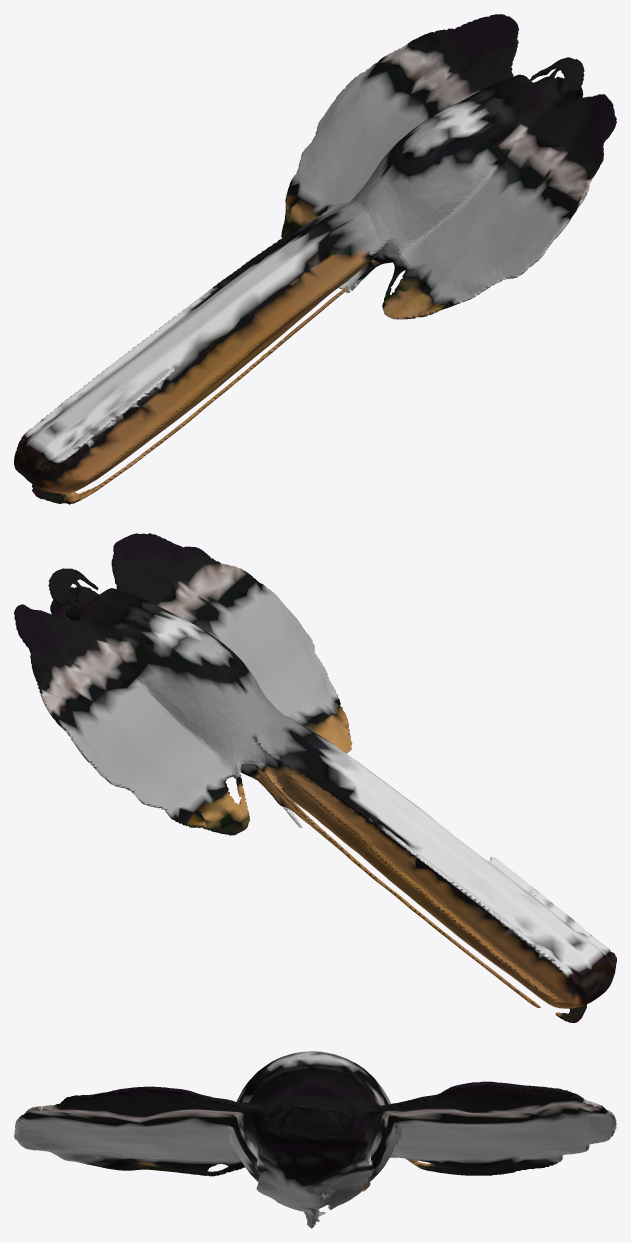
File: axe_1.glb
3 renders of one model, top to bottom at view 1: azimuth 30°, elevation 25°; view 2: azimuth 150°, elevation 25°; view 3: azimuth 270°, elevation 25°, orthographic. The views are drawn at different scales.
Parts seen in each view (by area): view 1: geometry_0; view 2: geometry_0; view 3: geometry_0.
Boxes of the visible parts, bbox=[...] form: geometry_0: bbox=[14, 14, 616, 504]; geometry_0: bbox=[14, 533, 616, 1022]; geometry_0: bbox=[14, 1051, 616, 1228].
Bounding box in the file's own units: 0.9375 × 0.52 × 0.6051.
